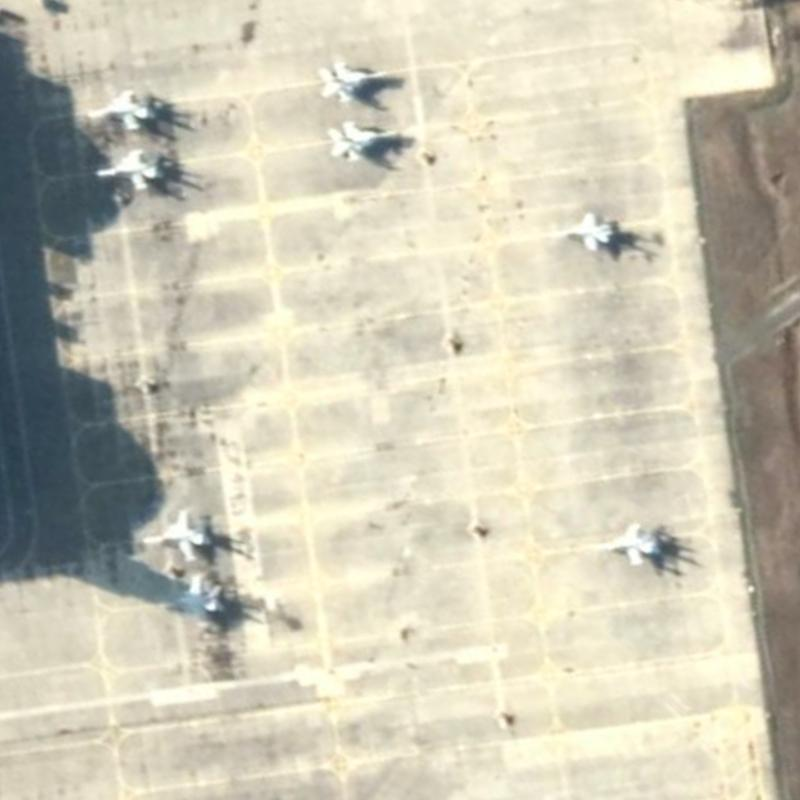A16: (138, 568, 234, 631), (69, 77, 161, 139), (70, 143, 170, 199), (306, 51, 402, 107), (536, 204, 627, 260), (321, 113, 410, 170), (586, 514, 669, 572), (135, 506, 218, 564)
